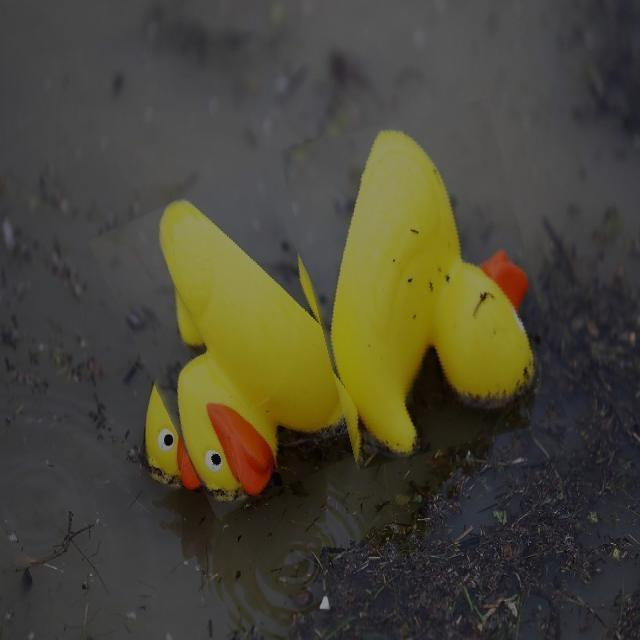rubber-duck: (330, 130, 531, 451), (144, 200, 358, 499)
